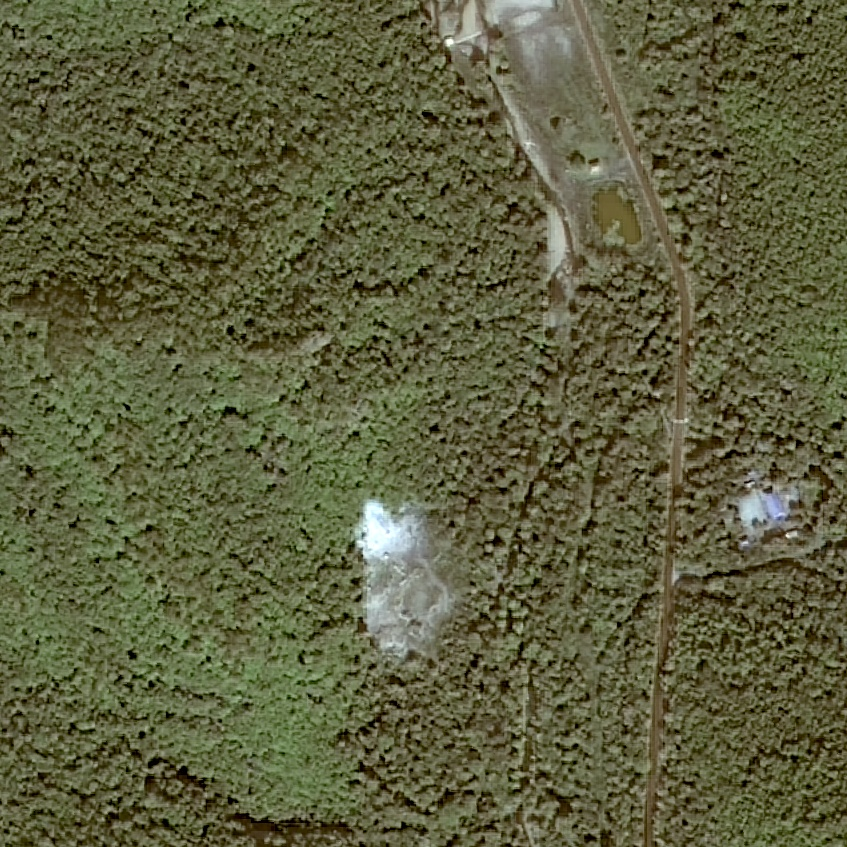slope: (357, 494, 455, 660), (737, 470, 796, 541)
